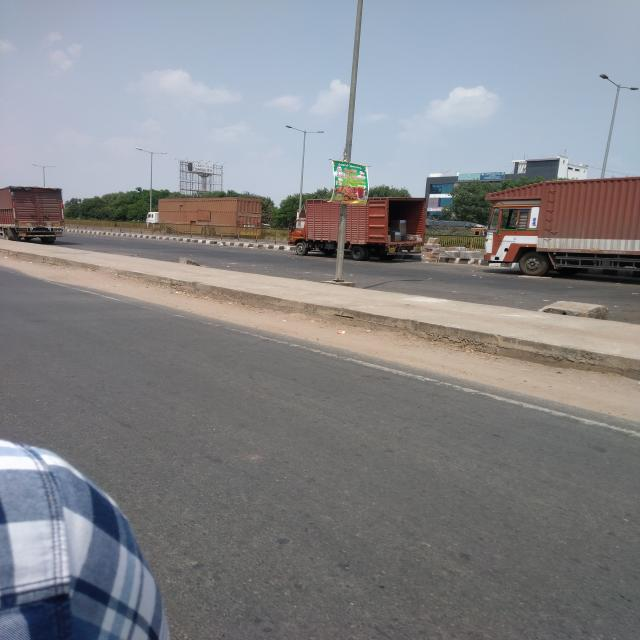Truck: (479, 173, 640, 274), (288, 188, 432, 260), (143, 193, 263, 238), (0, 186, 70, 255)
